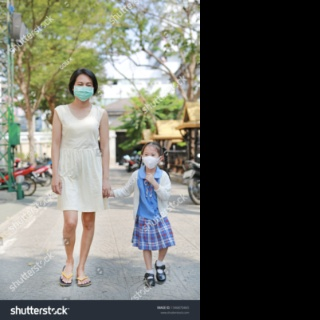with_mask: (74, 81, 94, 100), (142, 152, 160, 168)
